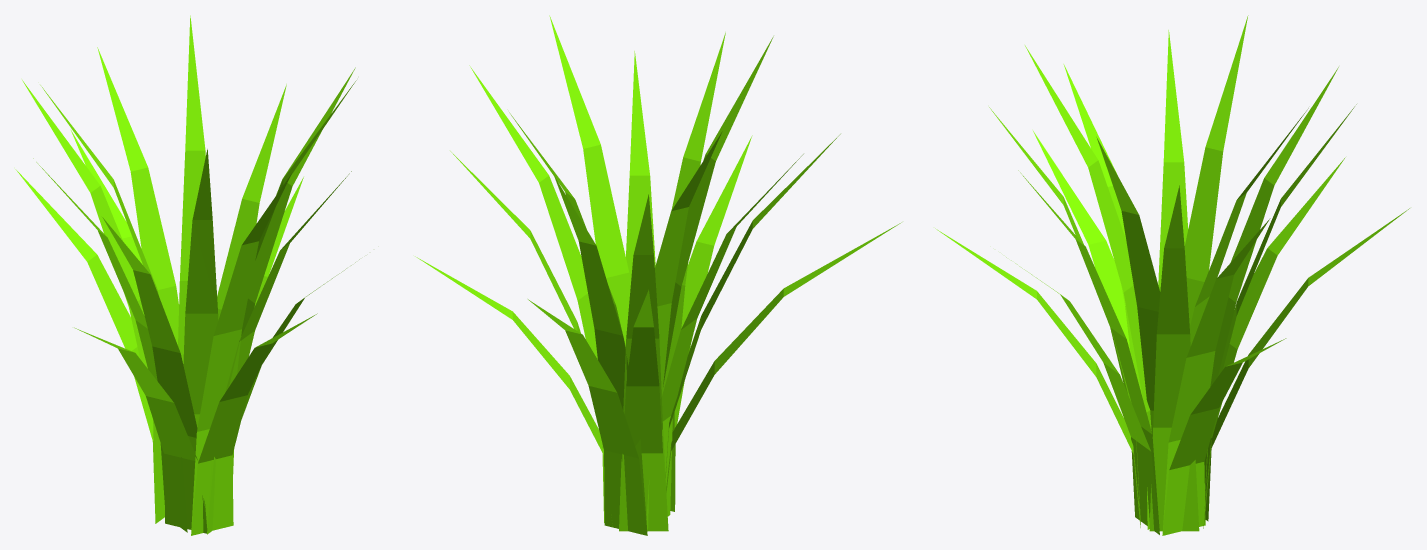
File: fern.obj
The picture shows the model from 3 angles, left to right: view 1: azimuth 30°, elevation 25°; view 2: azimuth 150°, elevation 25°; view 3: azimuth 270°, elevation 25°; orthographic projection.
Visible parts, largest first — view 1: Spline_Mesh_1, Spline_Mesh_1_15, Spline_Mesh_1_11, Spline_Mesh_1_12, Spline_Mesh_1_5, Spline_Mesh_1_1, Spline_Mesh_1_6, Spline_Mesh_1_2, Spline_Mesh_1_17, Spline_Mesh_1_7, Spline_Mesh_1_8, Spline_Mesh_1_4 (+6 smaller); view 2: Spline_Mesh_1_17, Spline_Mesh_1_14, Spline_Mesh_1_9, Spline_Mesh_1_5, Spline_Mesh_1_8, Spline_Mesh_1_3, Spline_Mesh_1_4, Spline_Mesh_1_2, Spline_Mesh_1_10, Spline_Mesh_1_11, Spline_Mesh_1, Spline_Mesh_1_15 (+4 smaller); view 3: Spline_Mesh_1_8, Spline_Mesh_1_3, Spline_Mesh_1_13, Spline_Mesh_1_7, Spline_Mesh_1_9, Spline_Mesh_1, Spline_Mesh_1_2, Spline_Mesh_1_16, Spline_Mesh_1_4, Spline_Mesh_1_12, Spline_Mesh_1_10, Spline_Mesh_1_17 (+6 smaller).
Boxes of the visible parts, <box> form: Spline_Mesh_1: <box>183,149,218,427</box>; Spline_Mesh_1_15: <box>191,313,317,535</box>; Spline_Mesh_1_11: <box>191,173,291,534</box>; Spline_Mesh_1_12: <box>74,327,207,533</box>; Spline_Mesh_1_5: <box>97,47,178,345</box>; Spline_Mesh_1_1: <box>102,217,207,529</box>; Spline_Mesh_1_6: <box>178,15,205,363</box>; Spline_Mesh_1_2: <box>22,80,164,523</box>; Spline_Mesh_1_17: <box>15,169,155,513</box>; Spline_Mesh_1_7: <box>217,84,286,319</box>; Spline_Mesh_1_8: <box>241,67,355,335</box>; Spline_Mesh_1_4: <box>33,158,187,532</box>; Spline_Mesh_1_17: <box>619,289,668,531</box>; Spline_Mesh_1_14: <box>528,299,647,535</box>; Spline_Mesh_1_9: <box>549,15,630,346</box>; Spline_Mesh_1_5: <box>554,176,647,534</box>; Spline_Mesh_1_8: <box>469,65,604,522</box>; Spline_Mesh_1_3: <box>655,131,722,396</box>; Spline_Mesh_1_4: <box>646,154,803,531</box>; Spline_Mesh_1_2: <box>619,194,668,525</box>; Spline_Mesh_1_10: <box>626,51,655,283</box>; Spline_Mesh_1_11: <box>662,32,725,511</box>; Spline_Mesh_1: <box>663,36,773,386</box>; Spline_Mesh_1_15: <box>674,135,752,504</box>; Spline_Mesh_1_8: <box>1149,185,1199,531</box>; Spline_Mesh_1_3: <box>1184,15,1248,327</box>; Spline_Mesh_1_13: <box>1162,338,1286,535</box>; Spline_Mesh_1_7: <box>1162,218,1270,531</box>; Spline_Mesh_1_9: <box>1096,137,1160,436</box>; Spline_Mesh_1: <box>1025,45,1151,529</box>; Spline_Mesh_1_2: <box>1204,67,1338,521</box>; Spline_Mesh_1_16: <box>1006,257,1159,534</box>; Spline_Mesh_1_4: <box>1158,30,1188,291</box>; Spline_Mesh_1_12: <box>1033,131,1130,352</box>; Spline_Mesh_1_10: <box>1018,170,1159,533</box>; Spline_Mesh_1_17: <box>1208,157,1345,518</box>.
Bounding box in the file's own units: 0.7649 × 0.8948 × 0.8704.
